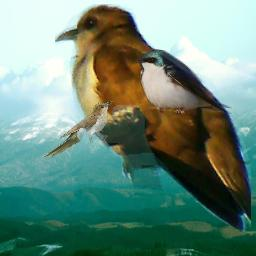Cuckoo: (55, 4, 251, 236), (42, 101, 114, 158)
Swallow: (135, 48, 232, 114)
